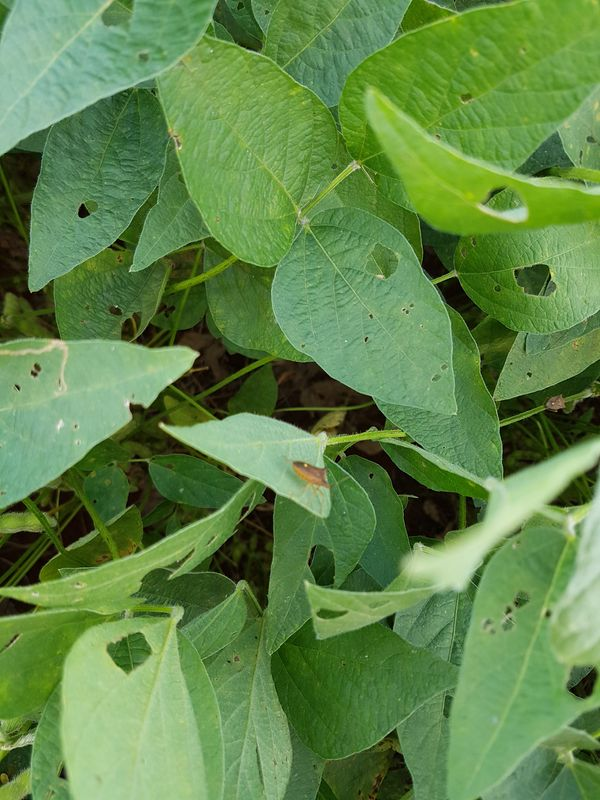Euschistus_heros_adulto: (279, 454, 340, 512), (541, 388, 570, 415)
